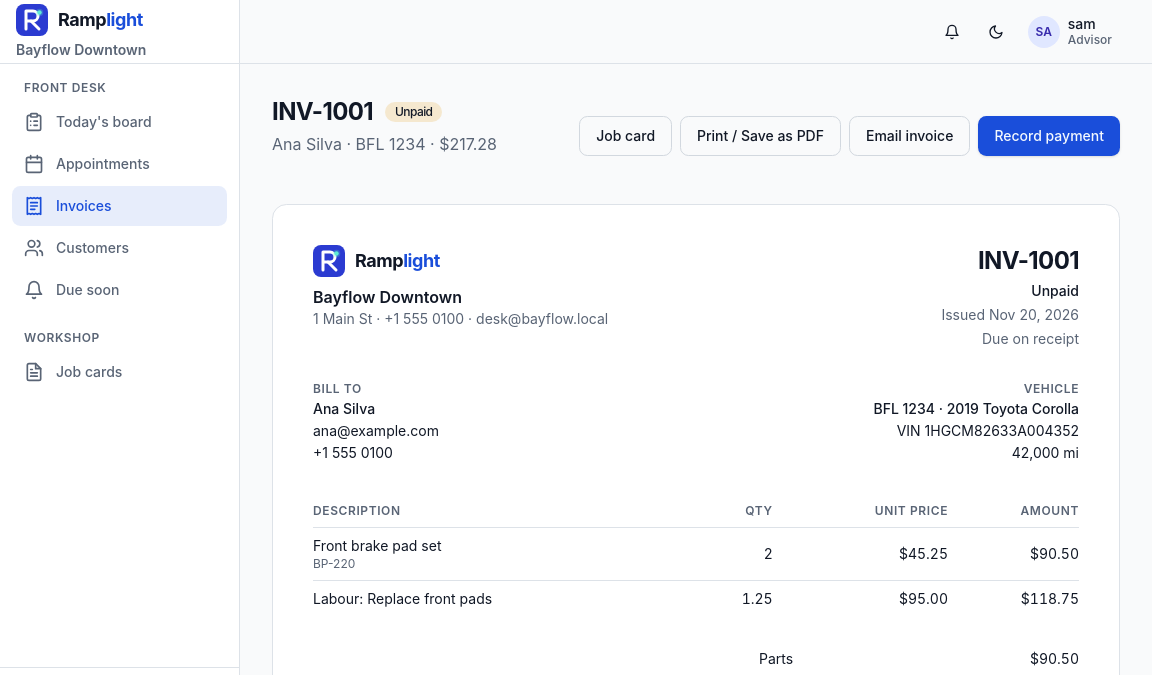
it: invoices (R2a) › records a payment once, with an idempotency key
Click the button "Record payment" at (1049, 136), box [978,116,1120,156]
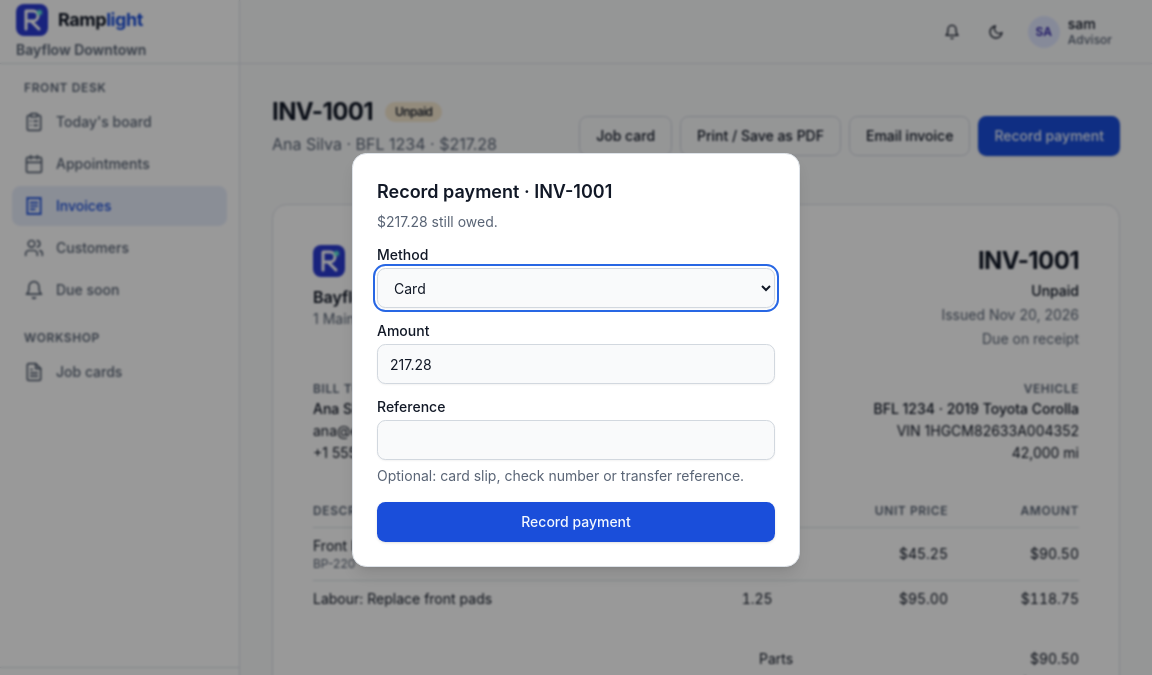
Now the field labelled "Amount" holds "217.28", box [377,344,775,384]
Select "Cash" in the dropdown labelled "Method" at (576, 288), box [377,268,775,308]
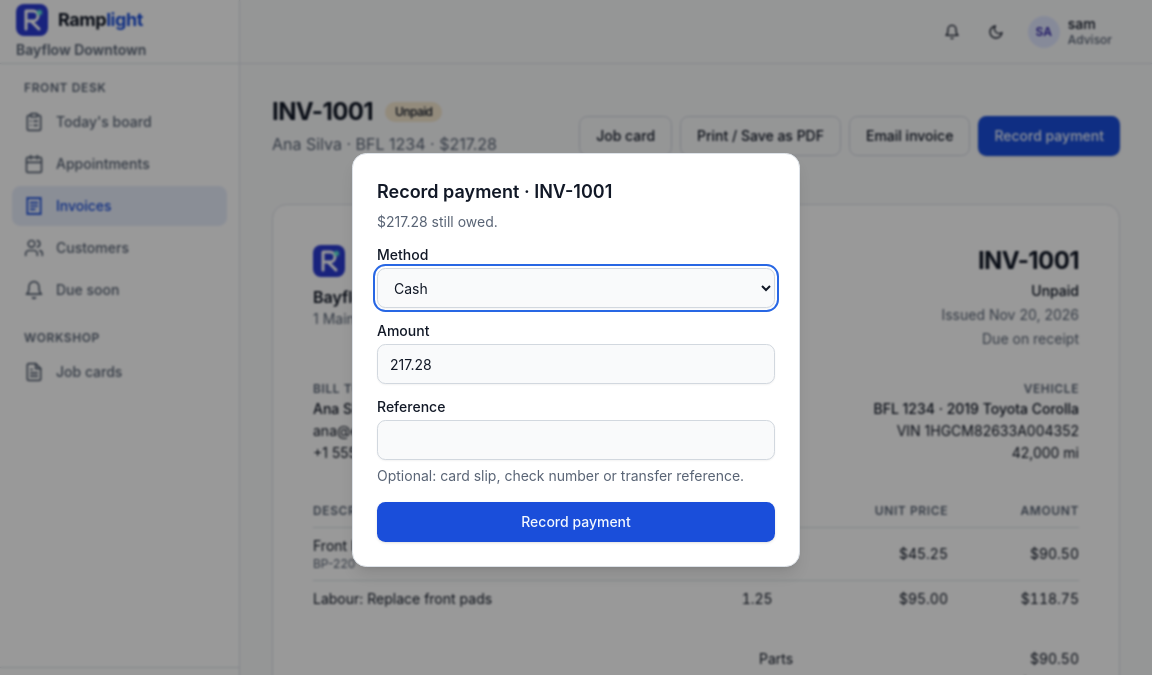
Click the button "Record payment" at (576, 522), box [377,502,775,542]
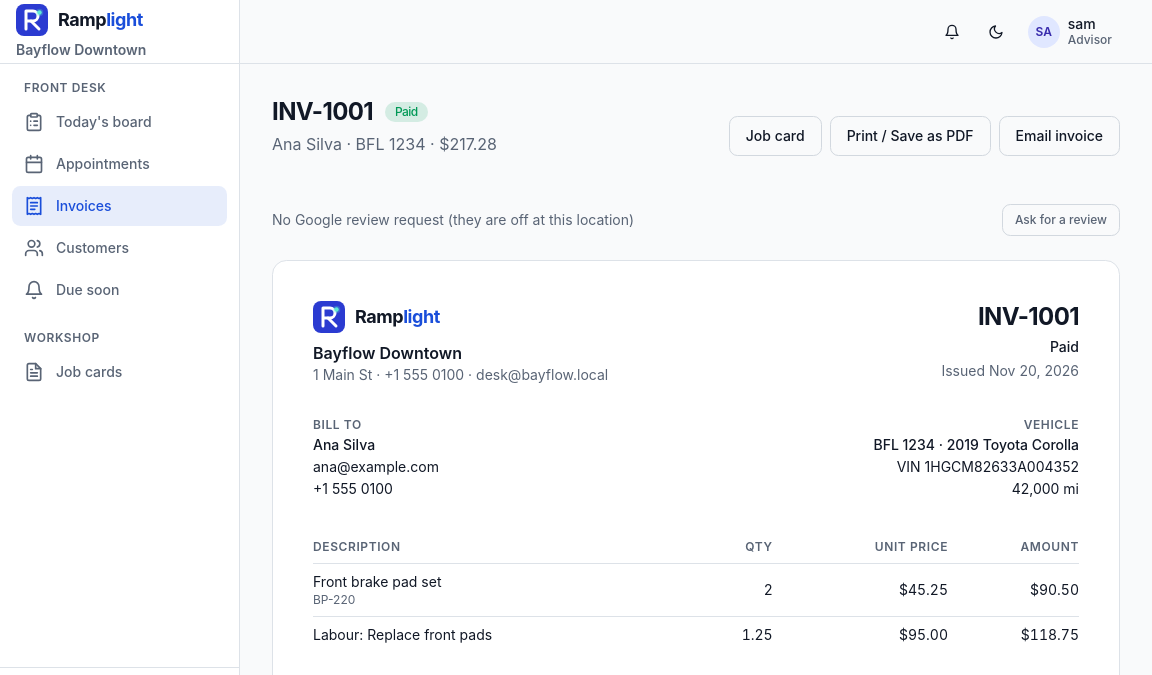
Now the text with test id "invoice-status" reads "Paid", box [1050,338,1079,355]
